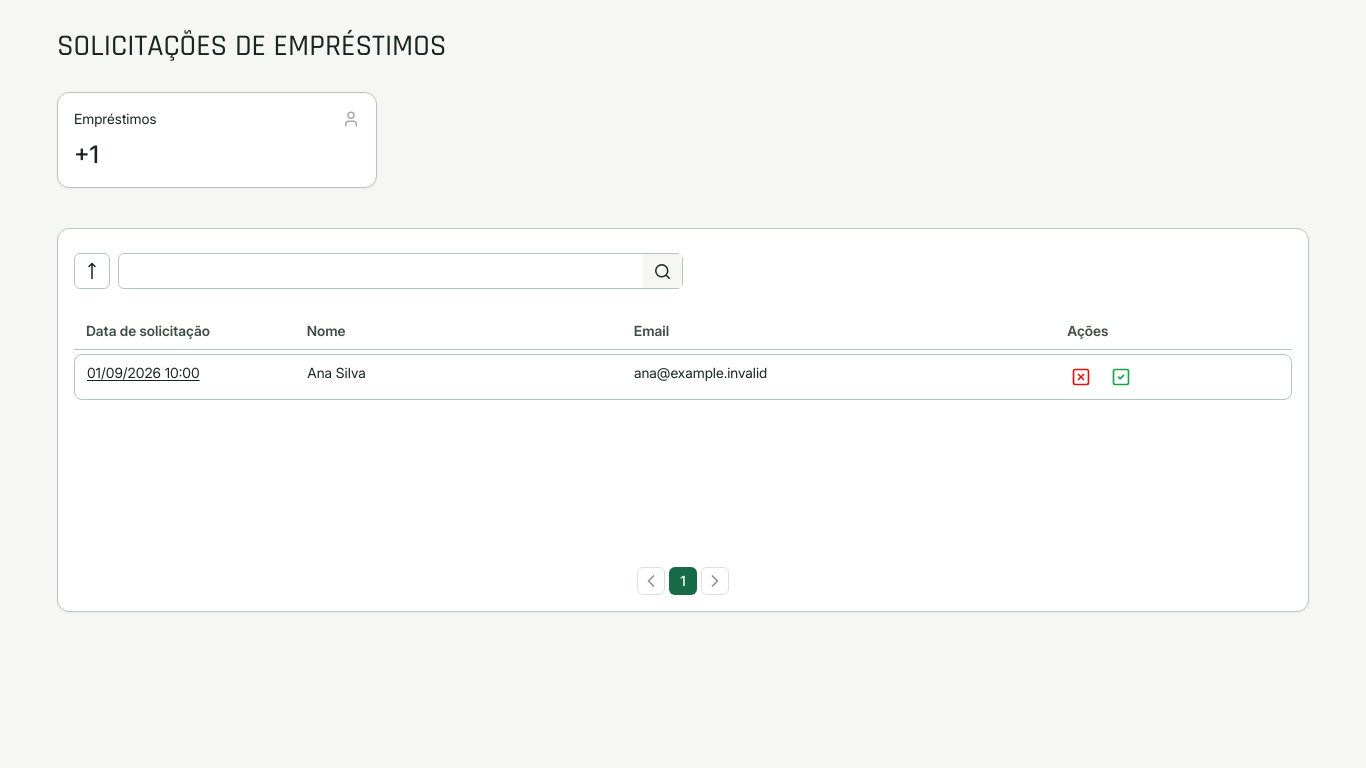
LoansRequest: decisoes criticas › atualiza a lista quando rejeita a solicitacao
Click the button named "Recusar Ana Silva": (1081, 377) [1067,363,1095,391]
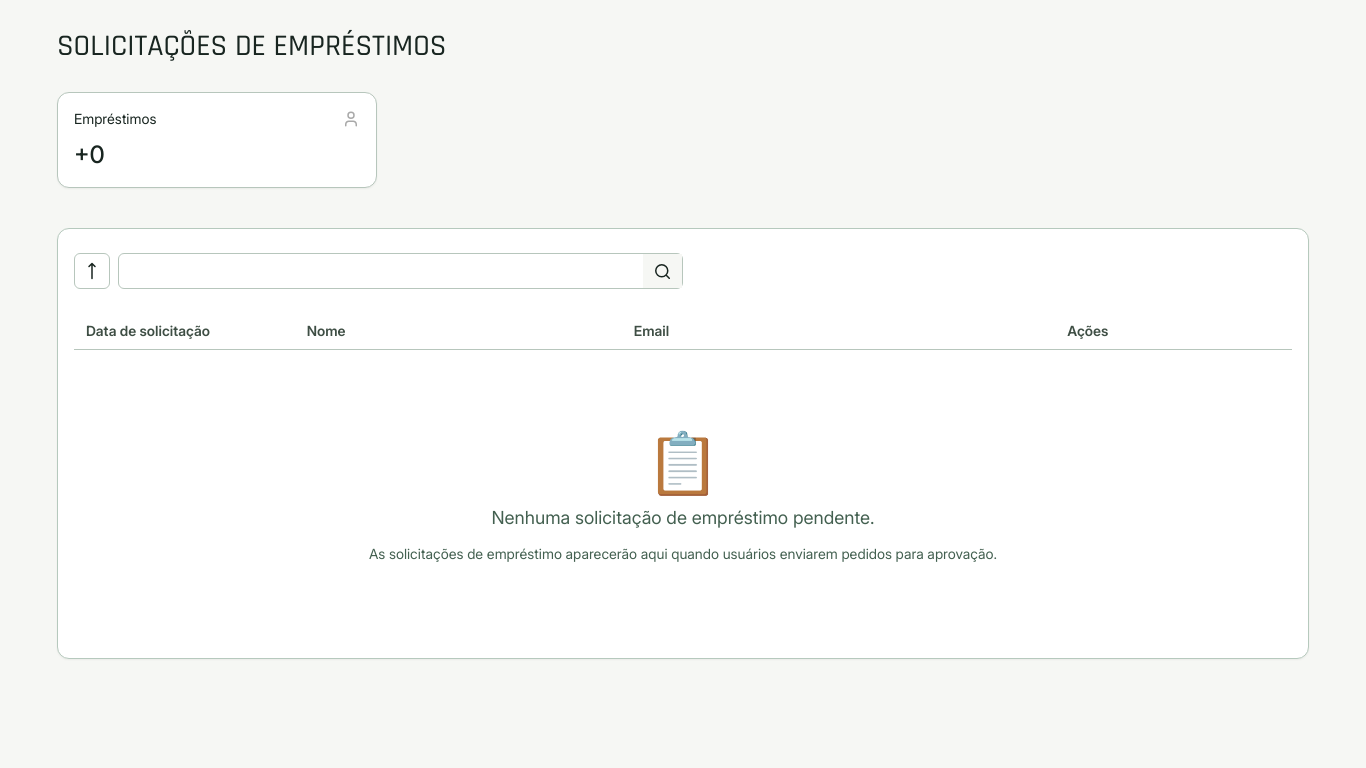
Expected: the text "Nenhuma solicitação de empréstimo pendente." is shown, [491,504,874,532]
Expected: the text "Ana Silva" is gone
